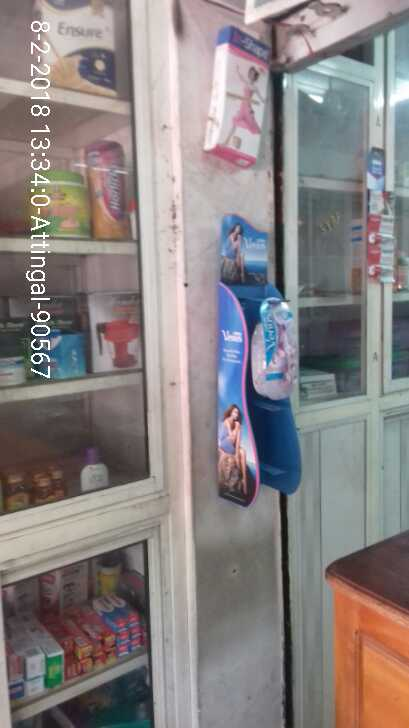venus: (257, 297, 301, 396)
